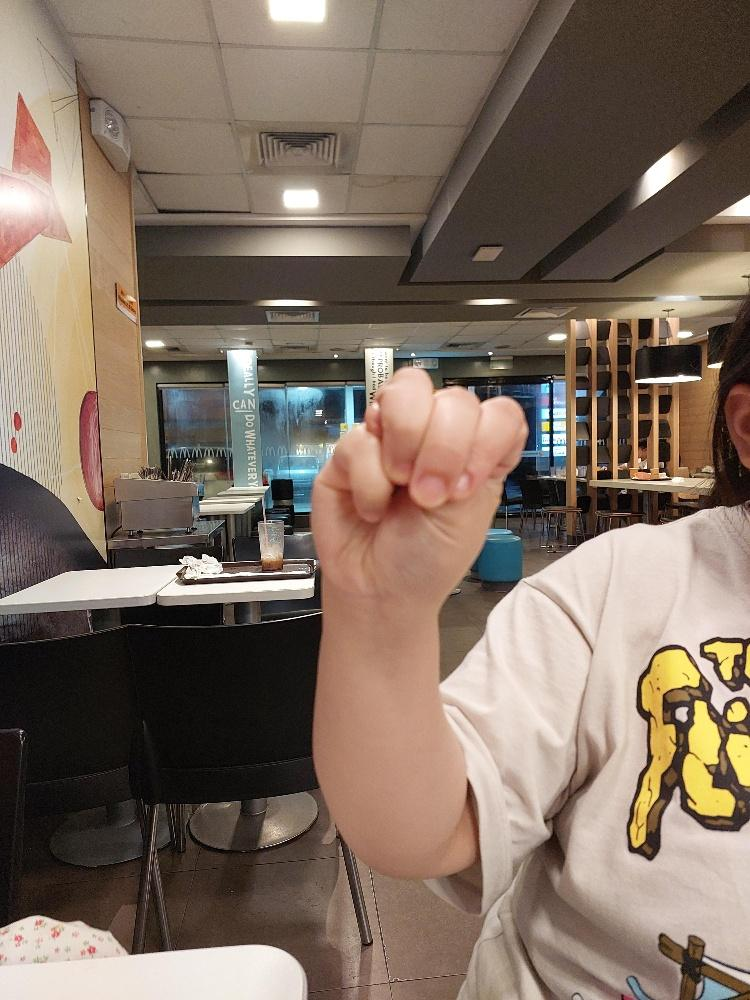m: (307, 363, 530, 602)
